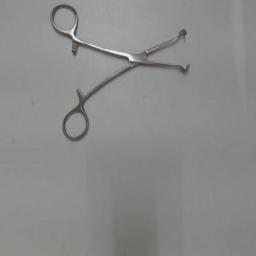Babcock Tissue Forceps: (49, 3, 195, 145)
